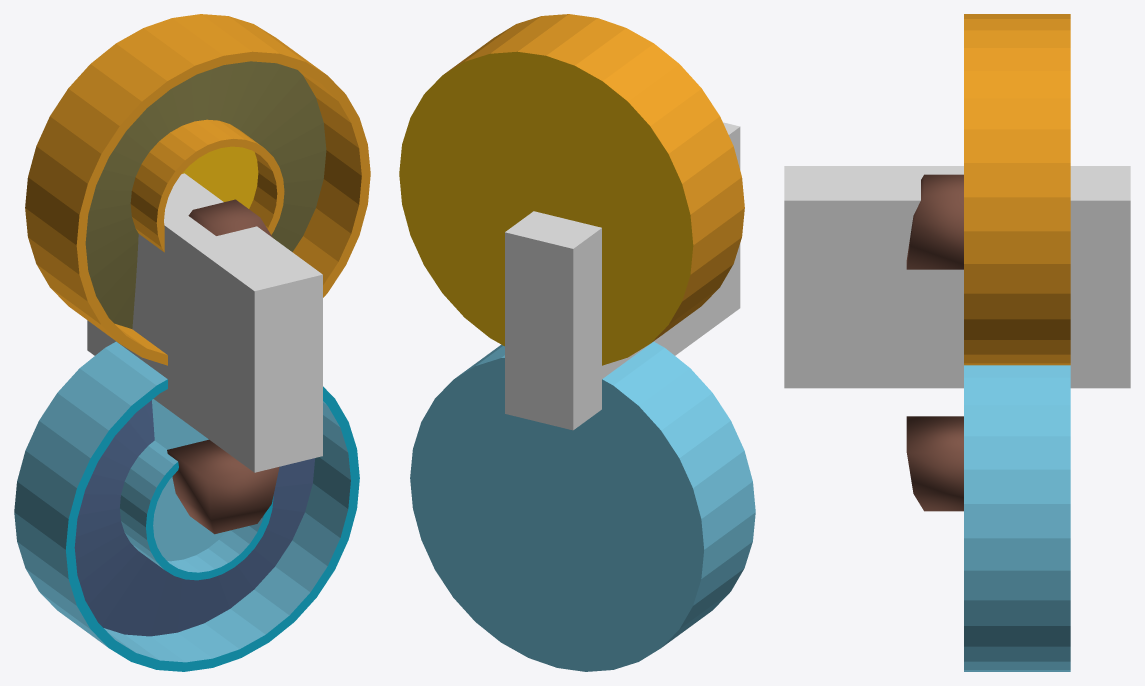
File: SunNCloudCont.fbx
The picture shows the model from 3 angles, left to right: view 1: azimuth 30°, elevation 25°; view 2: azimuth 150°, elevation 25°; view 3: azimuth 270°, elevation 25°; orthographic projection. The views are drawn at different scales.
Parts seen in each view (by area): view 1: yellowcont, yellowcont.001, Cube, yellowpush.001, yellowpush; view 2: yellowcont.001, yellowcont, Cube; view 3: Cube, yellowcont, yellowcont.001, yellowpush.001, yellowpush.
Part boxes in pixels (bbox=[...]): yellowcont: bbox=[25, 14, 370, 365]; yellowcont.001: bbox=[14, 341, 359, 671]; Cube: bbox=[87, 173, 322, 472]; yellowpush.001: bbox=[167, 439, 279, 534]; yellowpush: bbox=[188, 199, 272, 237]; yellowcont.001: bbox=[410, 341, 755, 671]; yellowcont: bbox=[399, 14, 744, 365]; Cube: bbox=[505, 122, 740, 430]; Cube: bbox=[784, 166, 1130, 388]; yellowcont: bbox=[964, 14, 1070, 365]; yellowcont.001: bbox=[964, 365, 1070, 671]; yellowpush.001: bbox=[906, 416, 963, 511]; yellowpush: bbox=[906, 174, 963, 269].
Bounding box in the file's own units: 211 × 402 × 200.
